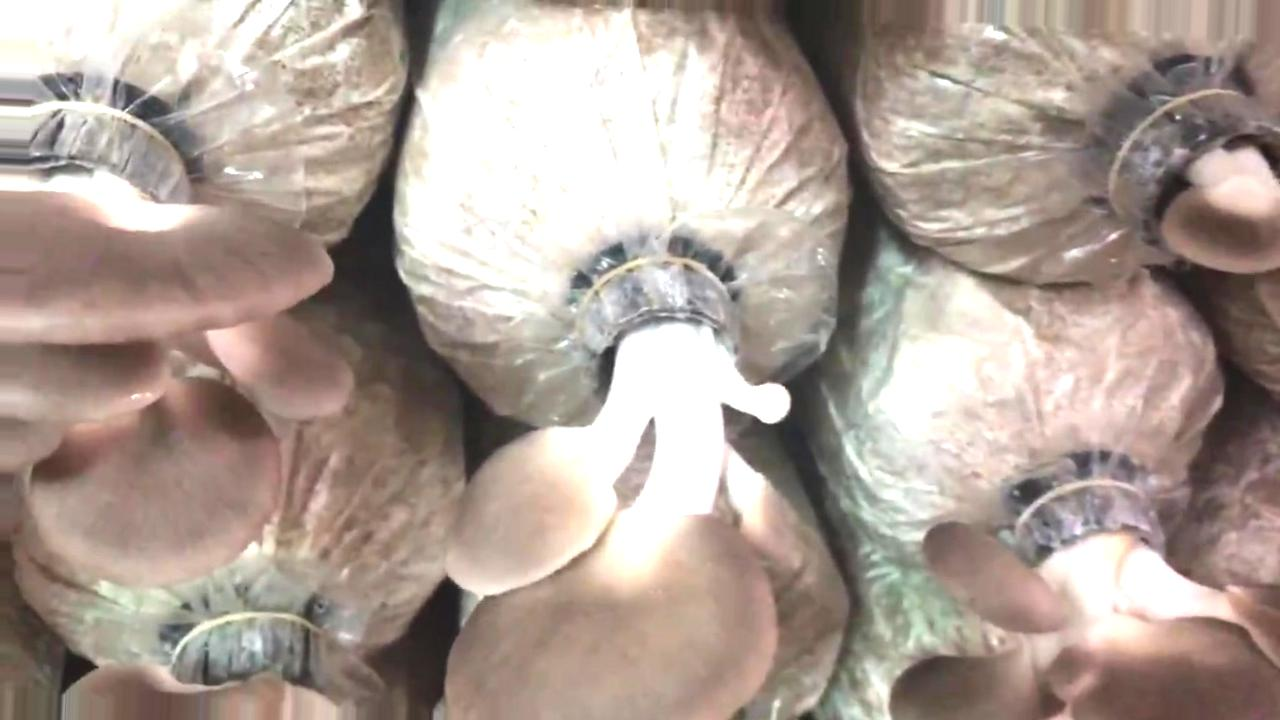nam: (444, 257, 816, 720), (1, 105, 355, 581), (886, 485, 1280, 716), (1116, 84, 1280, 277)
